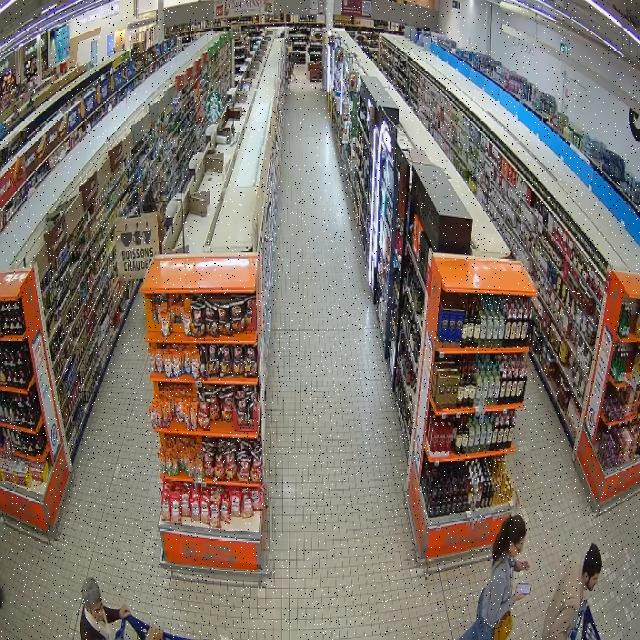bags: (494, 612, 512, 639)
hands: (517, 560, 529, 570)
person: (460, 514, 529, 639), (542, 543, 601, 639)
